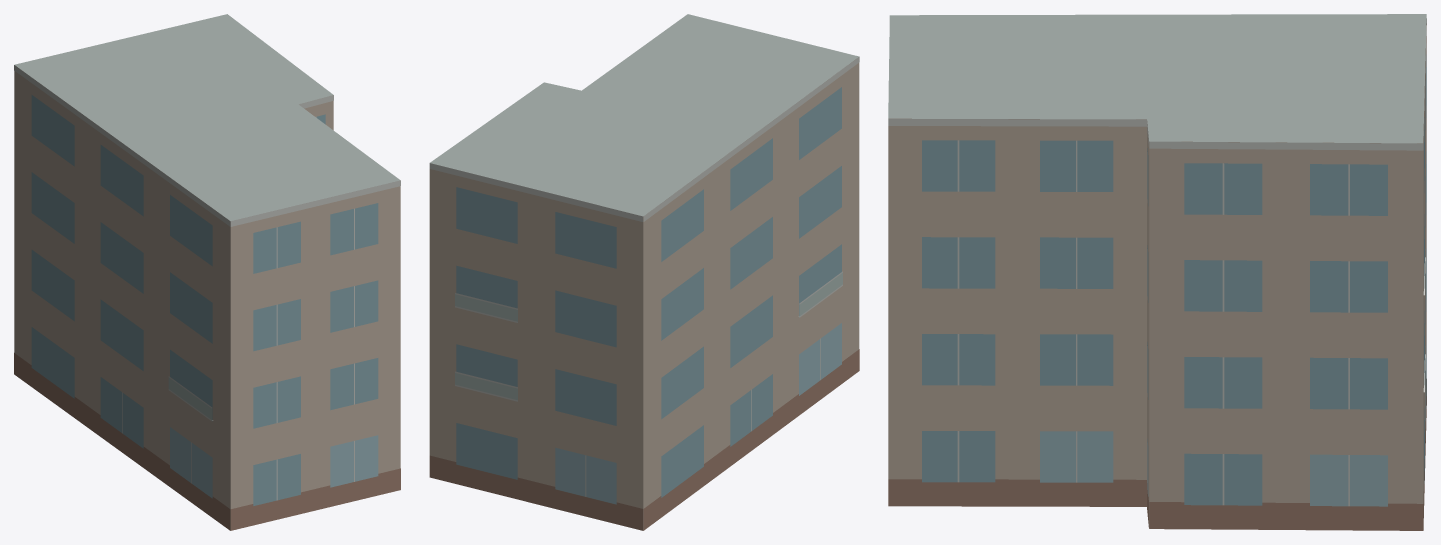
File: survey-upis-32738965.glb
3 renders of one model, left to right at view 1: azimuth 30°, elevation 25°; view 2: azimuth 150°, elevation 25°; view 3: azimuth 270°, elevation 25°, orthographic. The views are drawn at different scales.
Parts seen in each view (by area): view 1: survey-upis-32738965.tmp; view 2: survey-upis-32738965.tmp; view 3: survey-upis-32738965.tmp.
Part boxes in pixels (bbox=[...]): survey-upis-32738965.tmp: bbox=[14, 14, 400, 530]; survey-upis-32738965.tmp: bbox=[429, 14, 859, 530]; survey-upis-32738965.tmp: bbox=[888, 14, 1426, 530].
Bounding box in the file's own units: 9.43 × 13.15 × 16.58.
